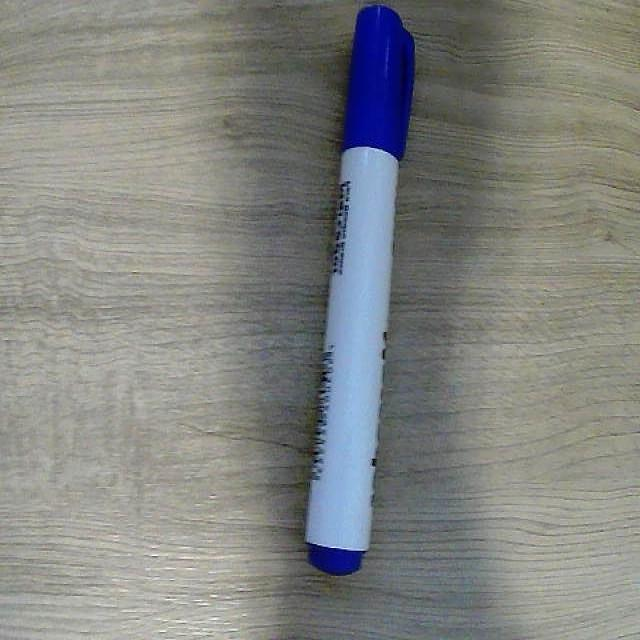caneta: (277, 0, 428, 595)
